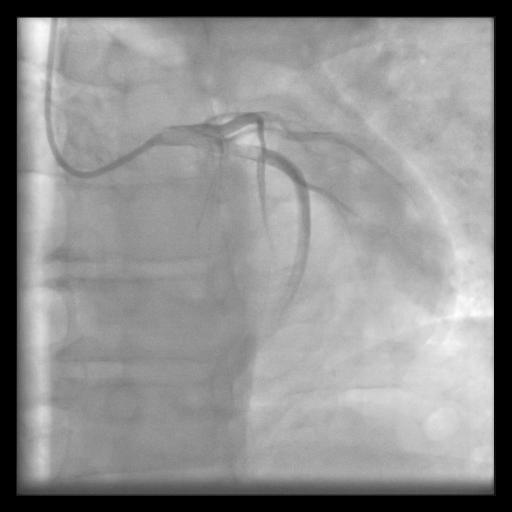Stenosis: (255, 123, 272, 160)
